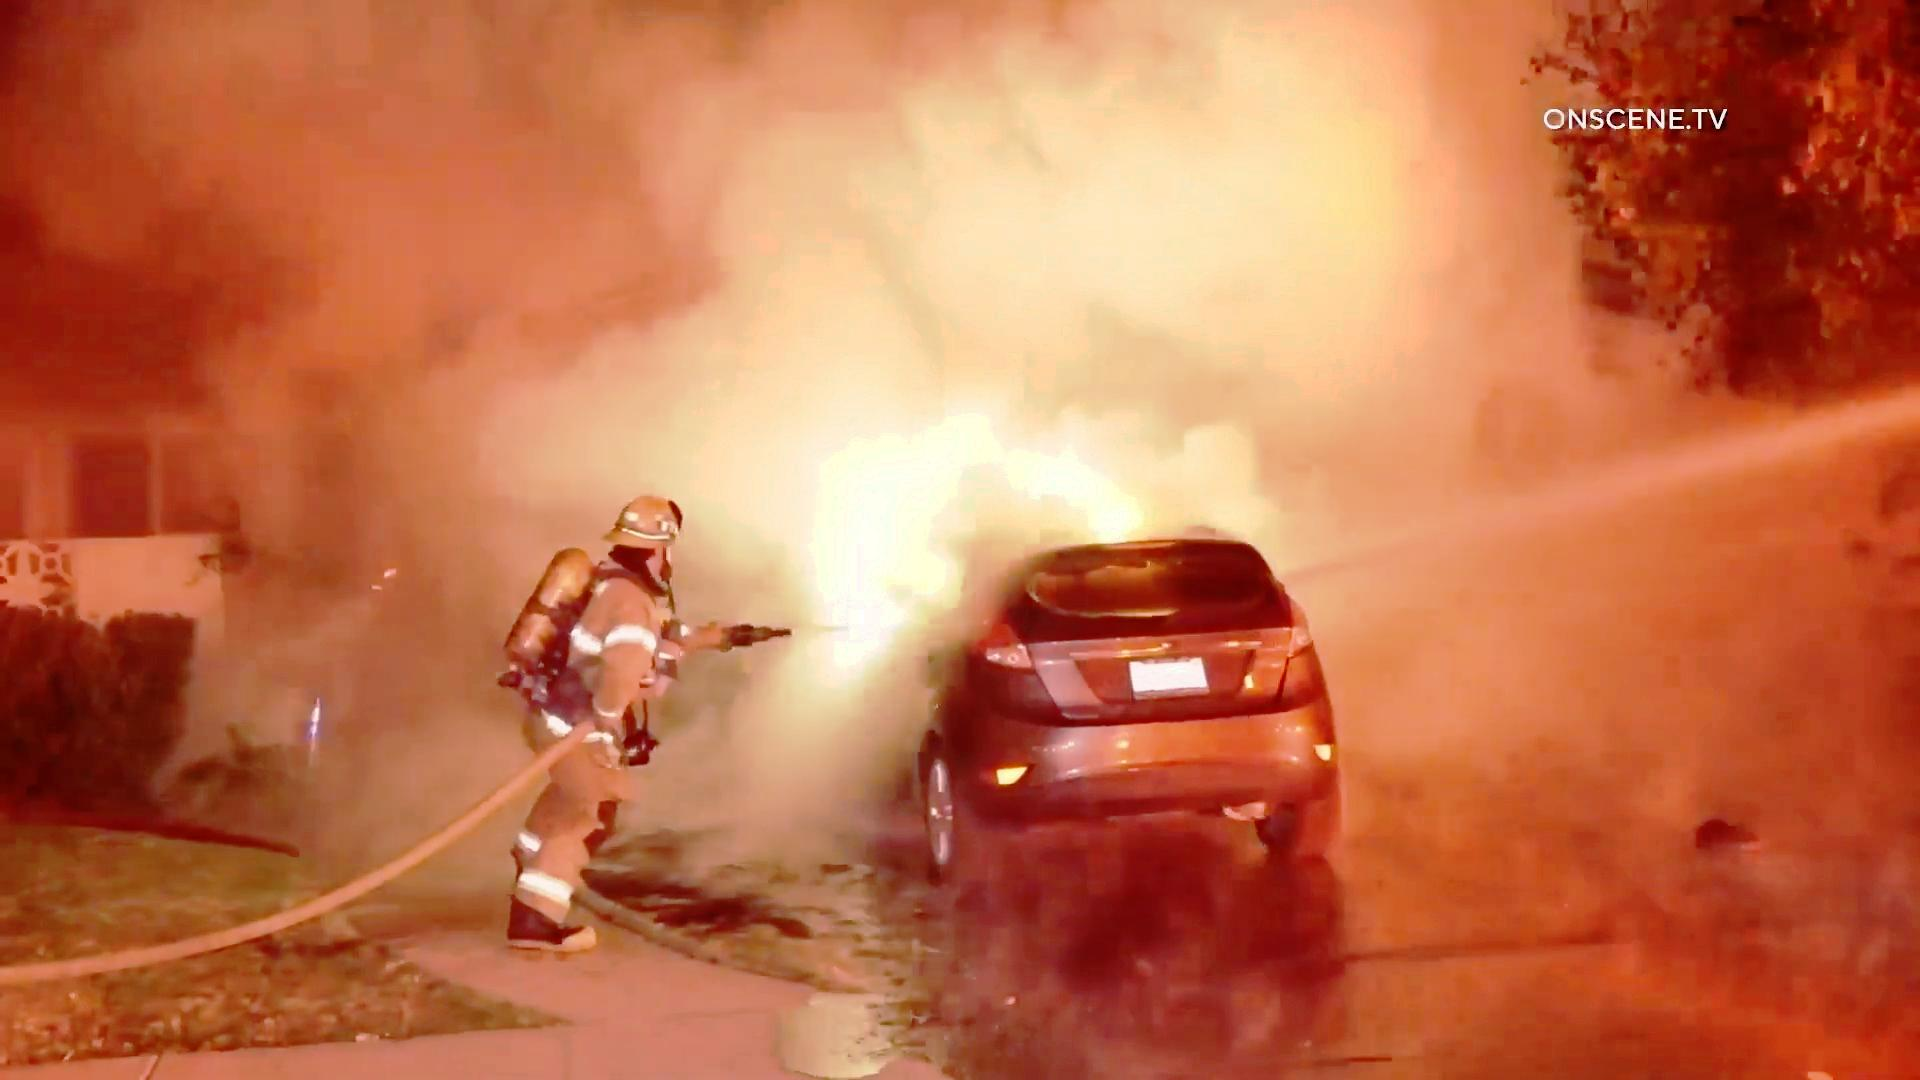fire: (811, 388, 982, 653), (1006, 421, 1179, 575)
smoke: (11, 5, 1473, 417), (1348, 371, 1920, 1060), (243, 433, 465, 847)
